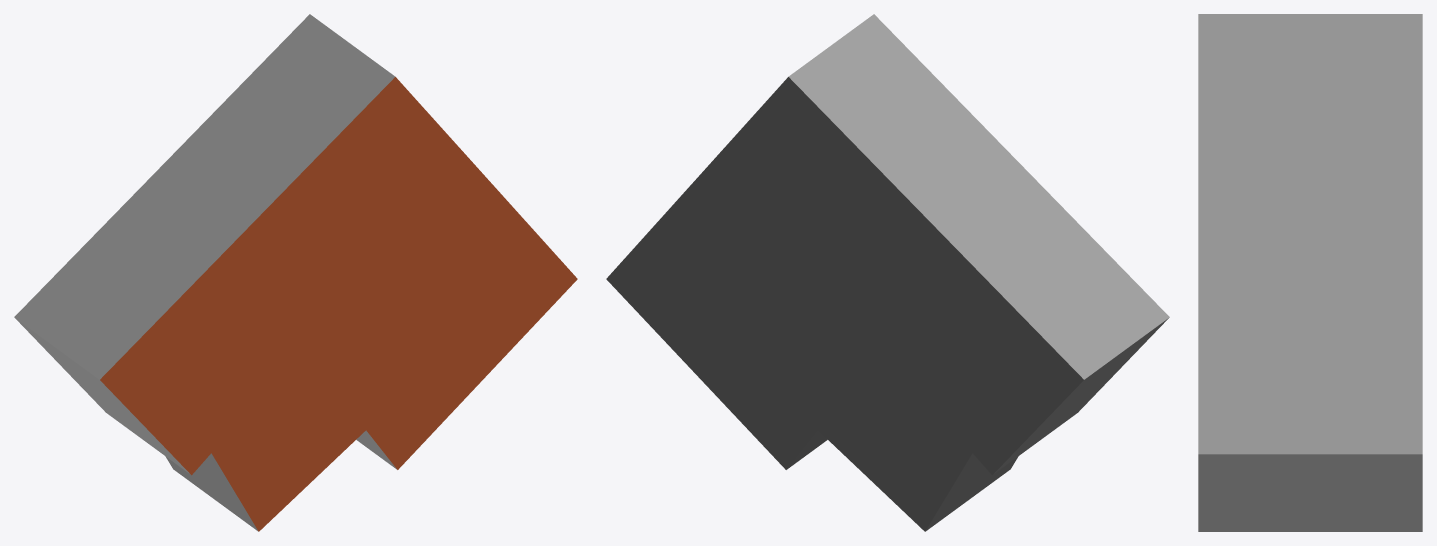
Rendered from construction_3228_assumed_A_Casa_h6m.obj.
3 views of the same model, side by side, from view 1: azimuth 30°, elevation 25°; view 2: azimuth 150°, elevation 25°; view 3: azimuth 270°, elevation 25° (orthographic). The views are drawn at different scales.
Visible parts, largest first — view 1: construction_3228_assumed_A_Casa; view 2: construction_3228_assumed_A_Casa; view 3: construction_3228_assumed_A_Casa.
Boxes of the visible parts, x1=… form: construction_3228_assumed_A_Casa: x1=14, y1=14, x2=577, y2=531; construction_3228_assumed_A_Casa: x1=606, y1=14, x2=1169, y2=531; construction_3228_assumed_A_Casa: x1=1198, y1=14, x2=1422, y2=531.
Bounding box in the file's own units: 19.33 × 16.3 × 6.
